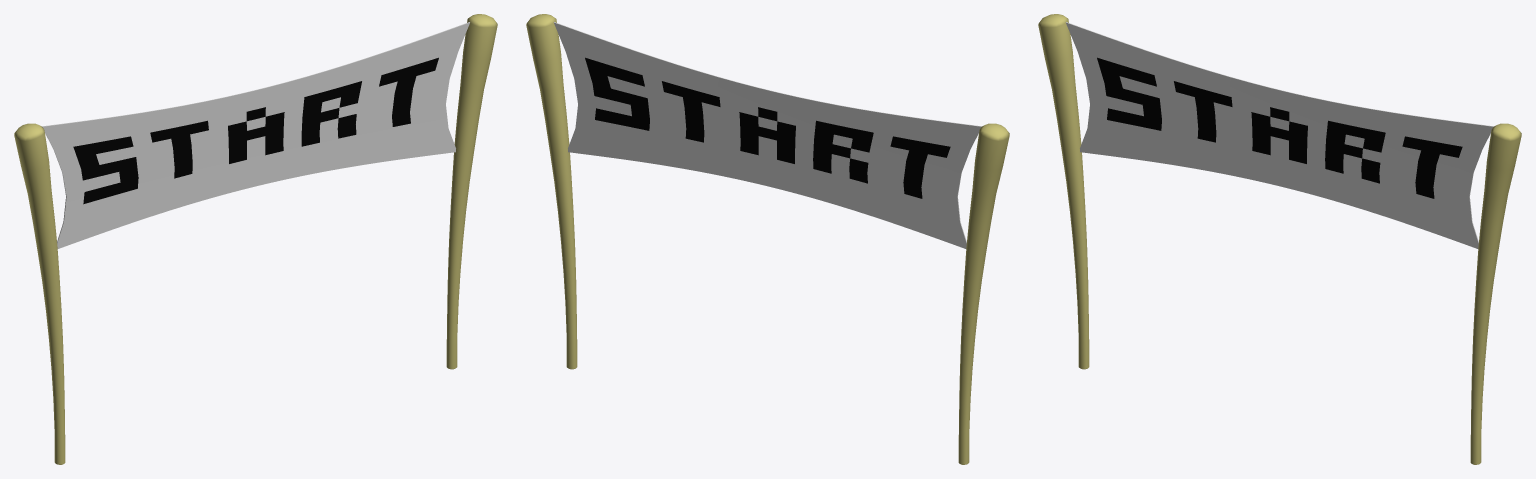
Rendered from wl_flagBanner_01.fbx.
3 views of the same model, side by side, from view 1: azimuth 30°, elevation 25°; view 2: azimuth 150°, elevation 25°; view 3: azimuth 330°, elevation 25° (orthographic).
Parts seen in each view (by area): view 1: flagBanner_01; view 2: flagBanner_01; view 3: flagBanner_01.
Part boxes in pixels (x1,y1,x2,y2): flagBanner_01: (14,14,497,464); flagBanner_01: (526,14,1009,464); flagBanner_01: (1038,14,1521,464).
Bounding box in the file's own units: 379 × 261 × 20.8.
